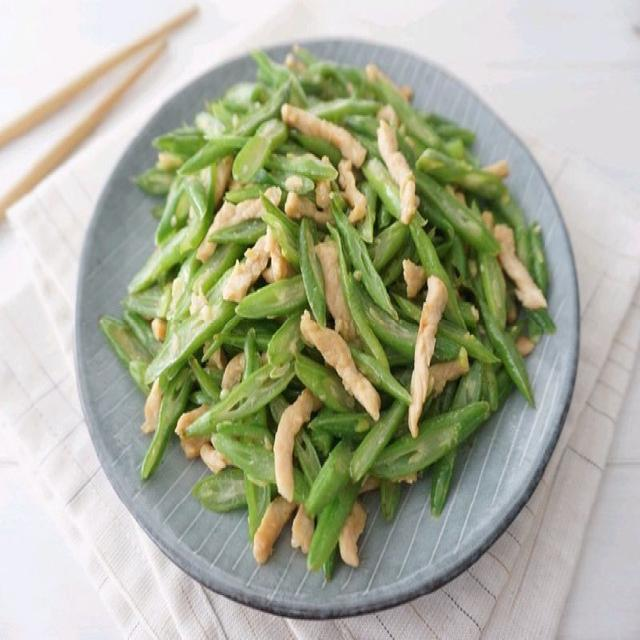dau que: (101, 49, 556, 579)
